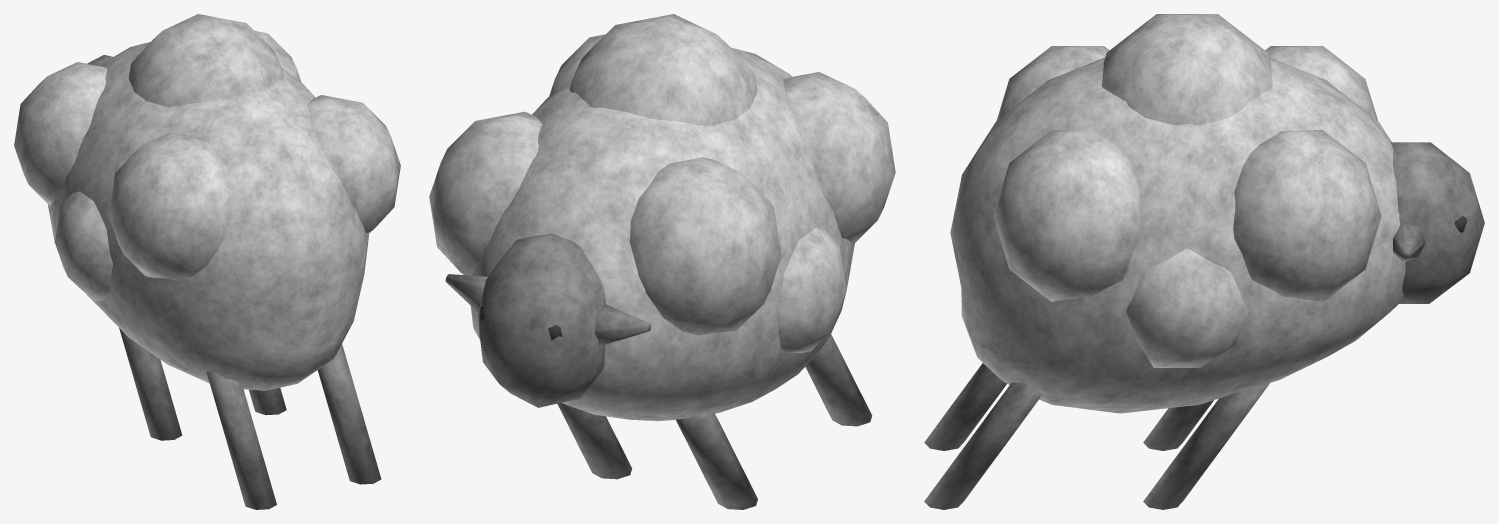
File: mob_domba_walk2.obj
3 renders of one model, left to right at view 1: azimuth 30°, elevation 25°; view 2: azimuth 150°, elevation 25°; view 3: azimuth 270°, elevation 25°, orthographic. The views are drawn at different scales.
Visible parts, largest first — view 1: mob_domba_walk2; view 2: mob_domba_walk2; view 3: mob_domba_walk2.
Part boxes in pixels (box(x1,y1,x2,y2)): mob_domba_walk2: box(14, 14, 400, 509); mob_domba_walk2: box(429, 14, 895, 509); mob_domba_walk2: box(924, 14, 1484, 509).
Bounding box in the file's own units: 0.8371 × 1.1 × 1.23.
1 material, 1 textured.
